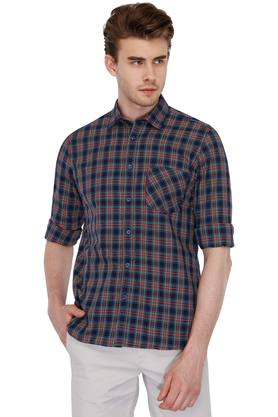Shirt: (29, 96, 271, 345)
